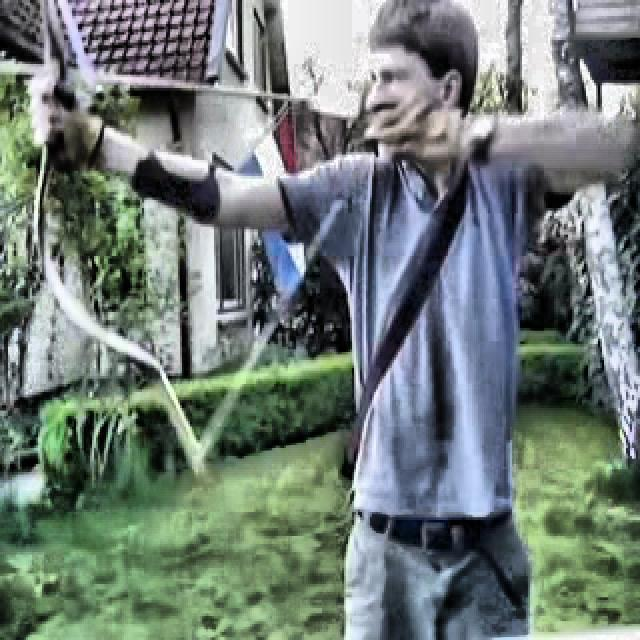P: (33, 8, 539, 632)
